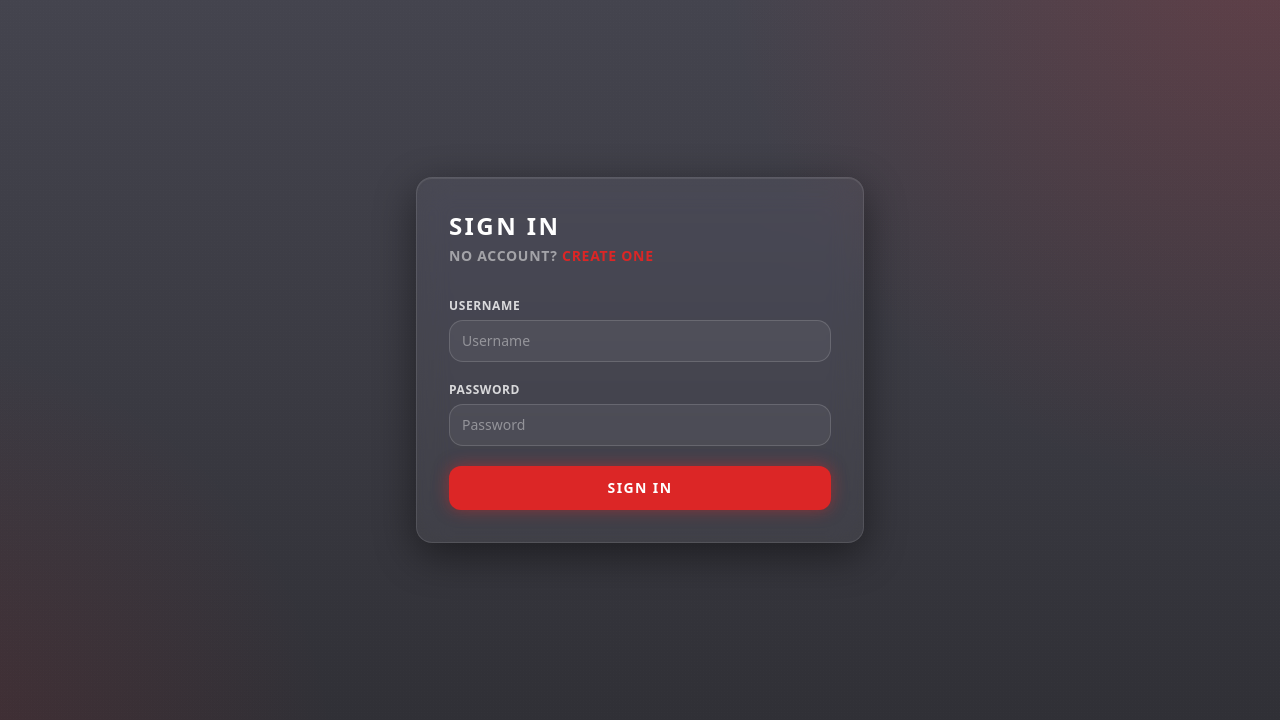
Scenario: Login page › failed login › shows the error message returned by the API
Step 1. Type "ash" into the field labelled "Username" → [640, 341], box [449, 320, 831, 362]
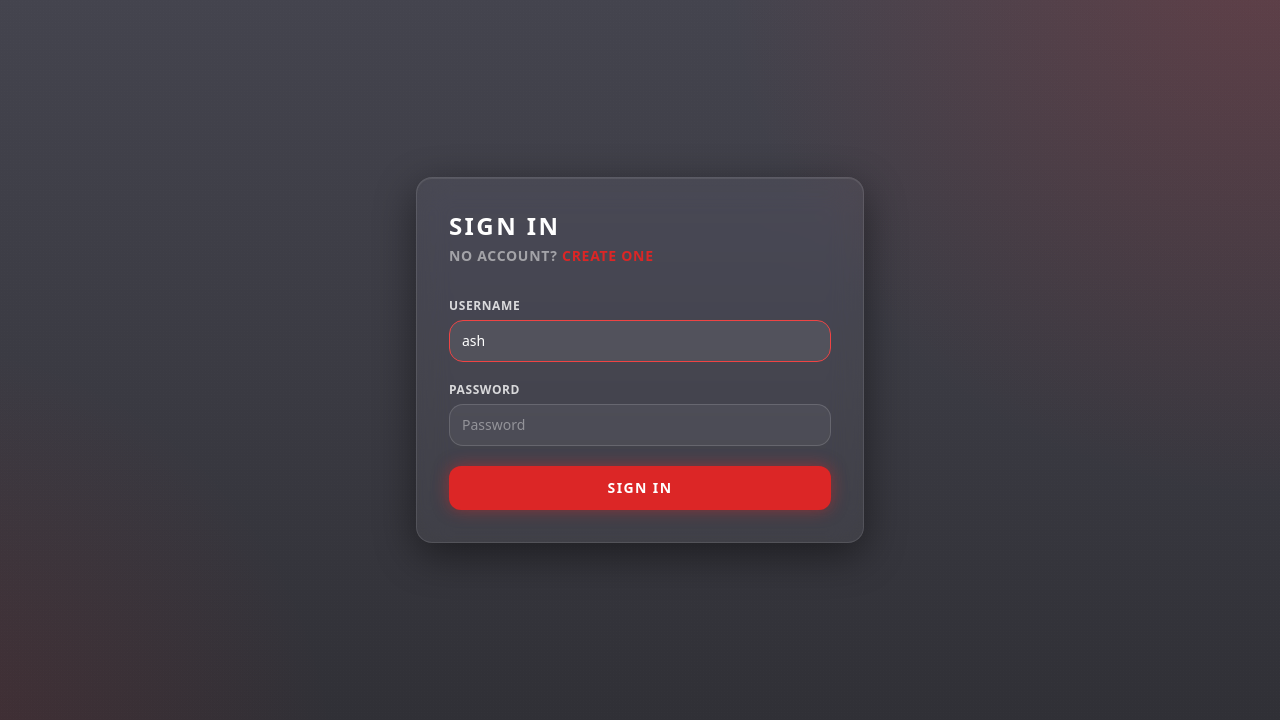
Step 2. Type "wrongpass" into the password field labelled "Password" → [640, 425], box [449, 404, 831, 446]
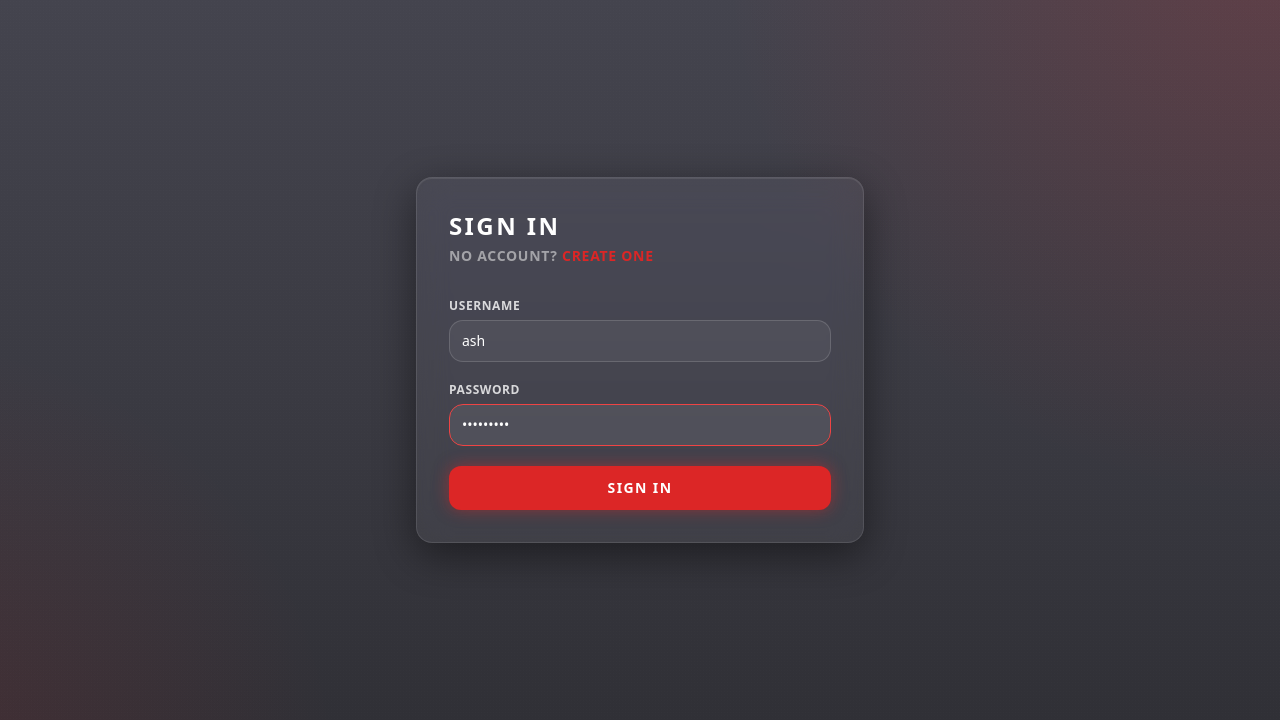
Step 3. Click the button "Sign In" → [640, 488], box [449, 466, 831, 510]
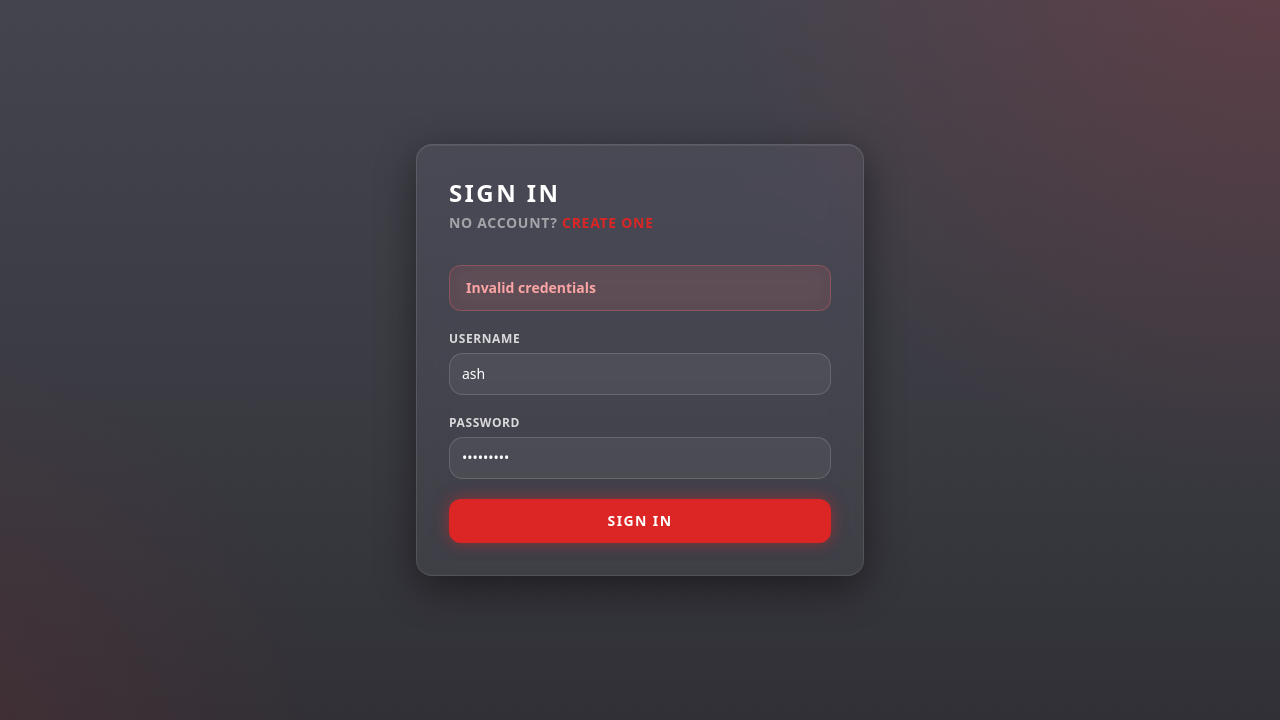
Expected: the text "Invalid credentials" is shown, [449, 265, 831, 311]
